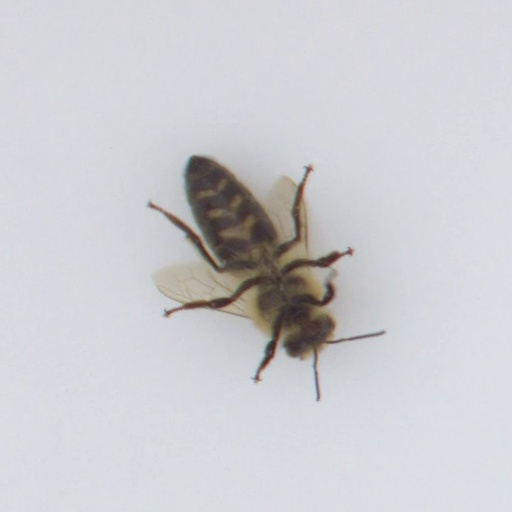Bee: (159, 143, 346, 376)
